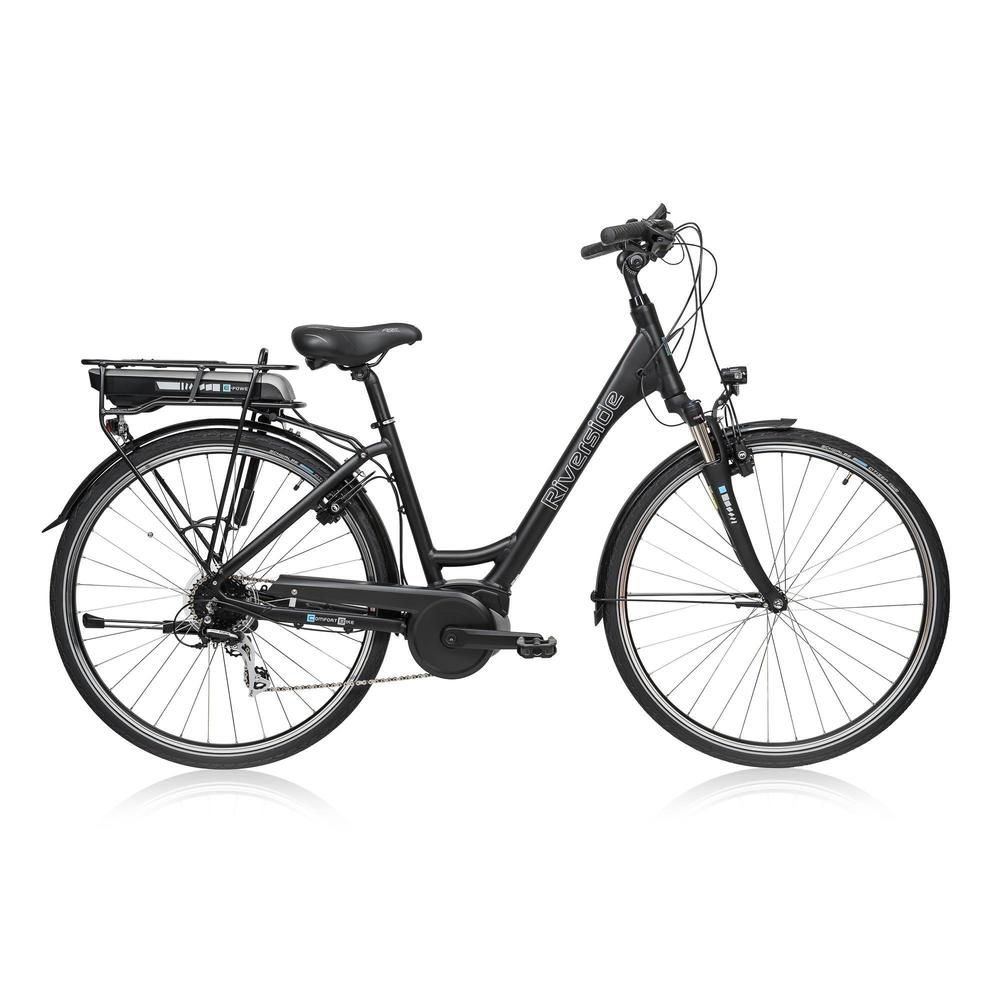UrbanBike: (55, 203, 934, 774)
